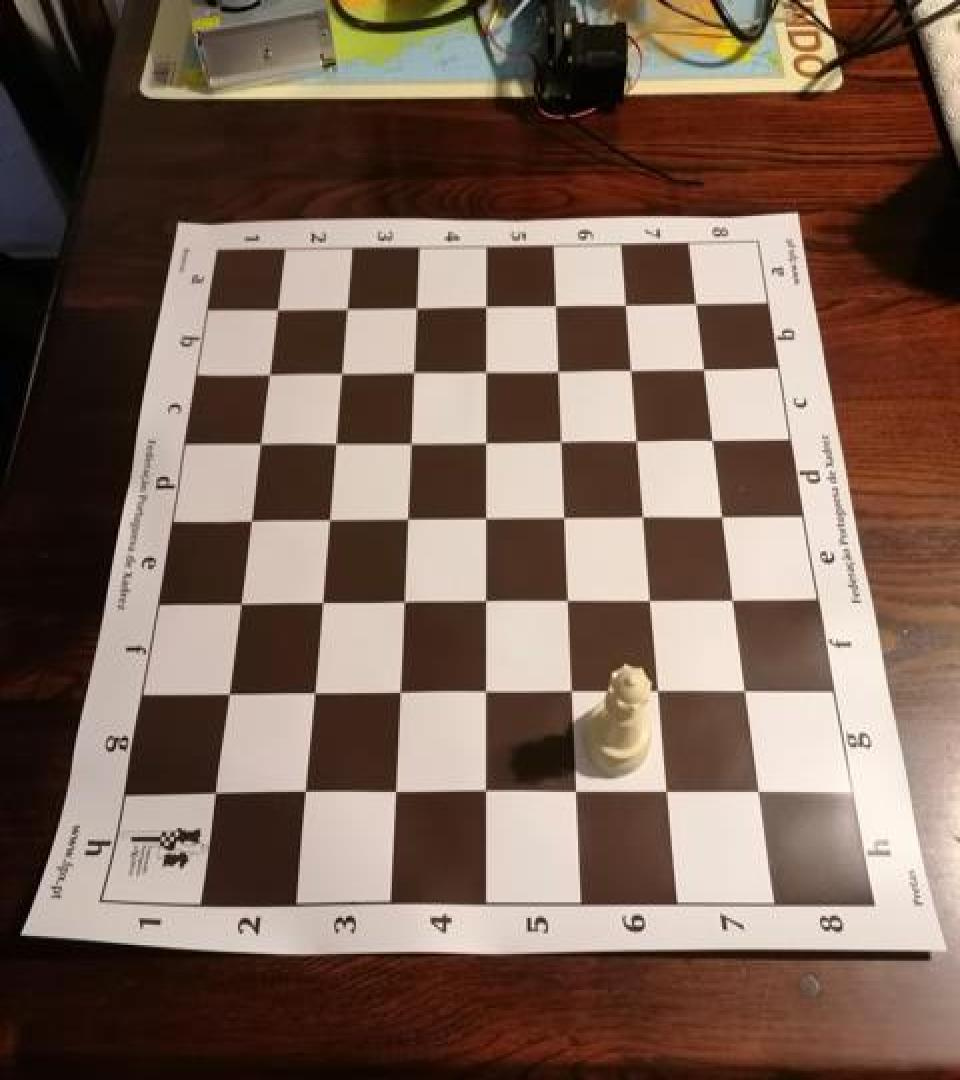xcorner: (744, 777, 776, 814), (652, 777, 684, 814), (682, 289, 714, 325), (611, 289, 643, 325), (540, 289, 572, 325), (470, 290, 502, 326), (400, 290, 432, 326), (330, 292, 362, 328), (260, 292, 292, 328), (690, 353, 722, 389), (617, 354, 649, 390), (543, 354, 575, 390), (470, 354, 502, 390), (397, 356, 429, 392), (324, 356, 356, 392), (251, 356, 283, 392), (699, 424, 731, 460), (622, 424, 654, 460), (546, 425, 578, 461), (469, 425, 501, 461), (393, 425, 425, 461), (317, 425, 349, 461), (242, 426, 274, 462), (709, 500, 741, 536), (629, 500, 661, 536), (549, 502, 581, 538), (469, 502, 501, 538), (390, 502, 422, 538), (311, 502, 343, 538), (232, 502, 264, 538), (720, 585, 752, 621), (636, 585, 668, 621), (552, 585, 584, 621), (469, 585, 501, 621), (386, 585, 418, 621), (303, 585, 335, 621), (221, 585, 253, 621), (731, 676, 763, 712), (643, 676, 675, 712), (556, 676, 588, 712), (468, 676, 500, 712), (381, 676, 413, 712), (295, 676, 327, 712), (208, 676, 240, 712), (560, 776, 592, 812), (468, 776, 500, 812), (377, 776, 409, 812), (286, 776, 318, 812), (195, 775, 227, 811)
